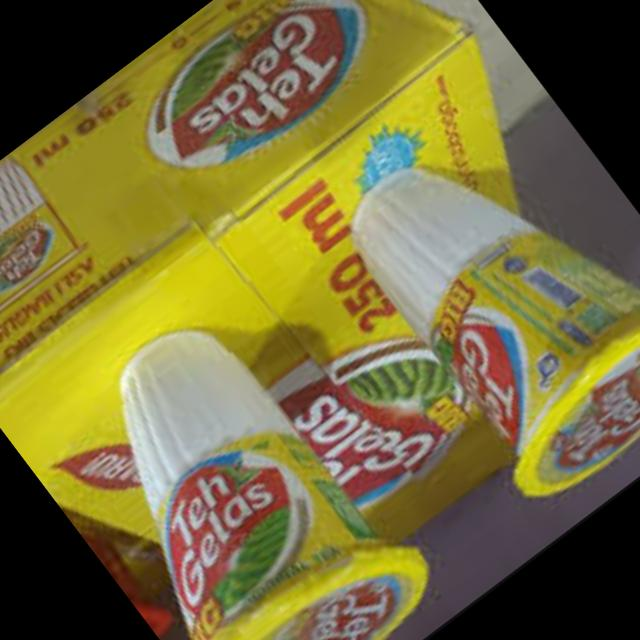GelasPlastik: (14, 286, 454, 640), (317, 66, 640, 519)
